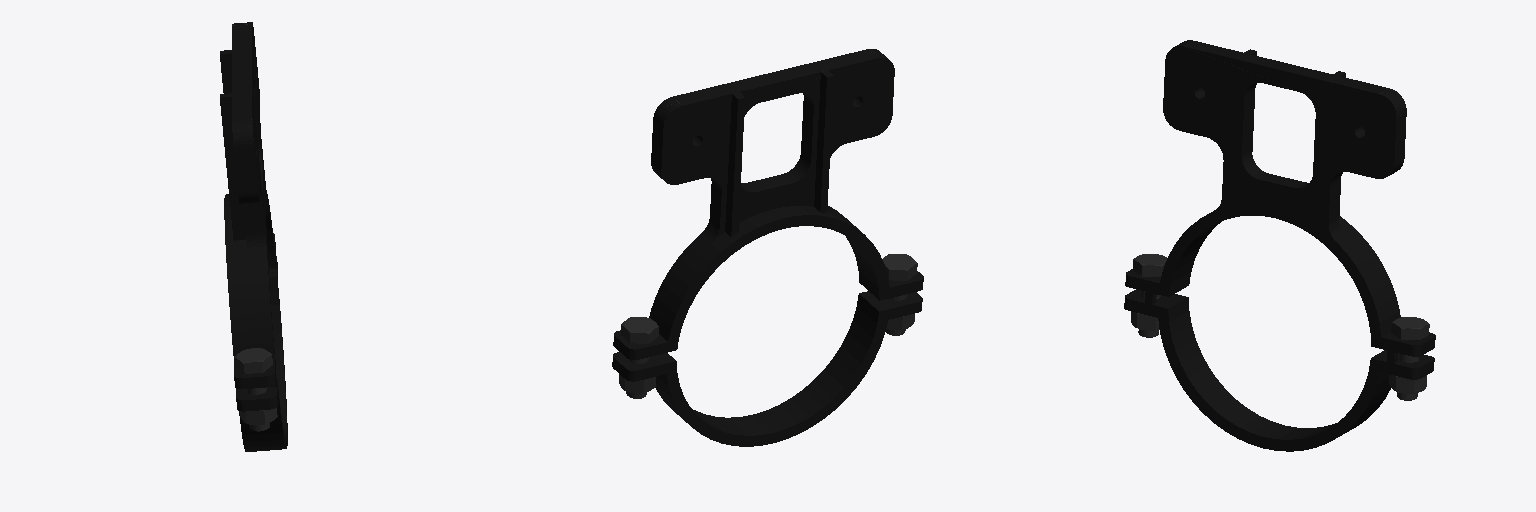
3 renders of one model, left to right at view 1: azimuth 30°, elevation 25°; view 2: azimuth 150°, elevation 25°; view 3: azimuth 270°, elevation 25°, orthographic.
Bounding box in the file's own units: 49.34 × 99 × 75.79.
Materials: 2 (1 with a texture image).